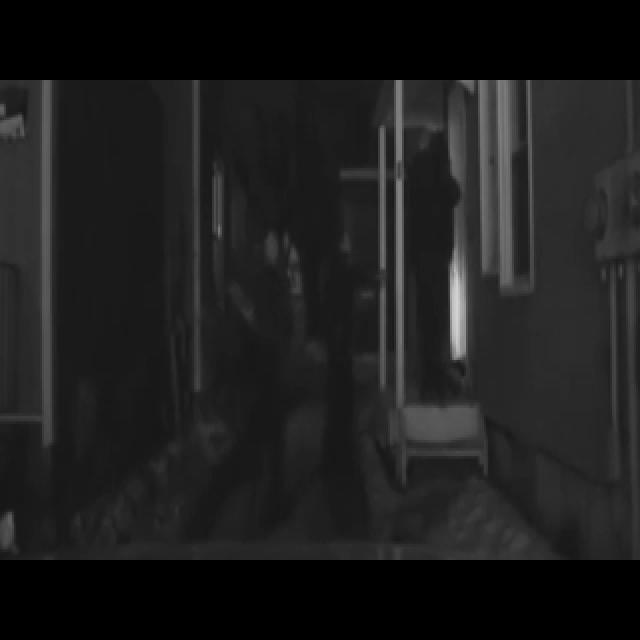shooting: (146, 83, 444, 482)
